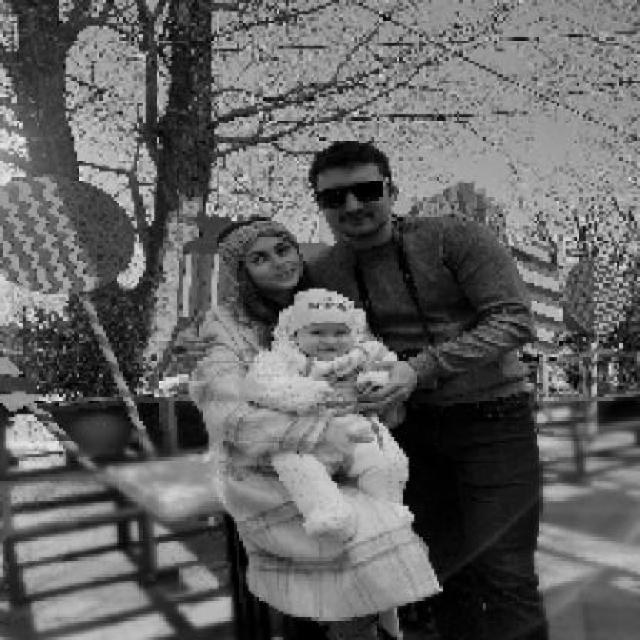child: (247, 289, 399, 540)
